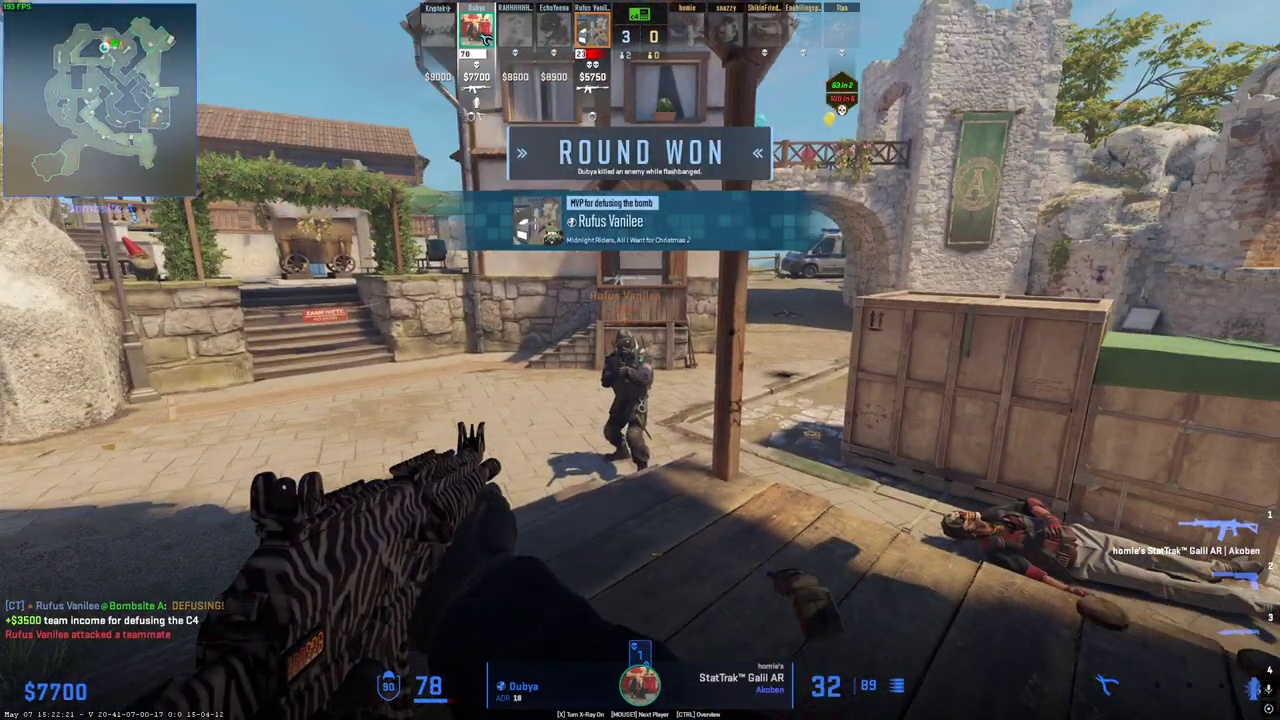CT: (600, 330, 654, 472)
